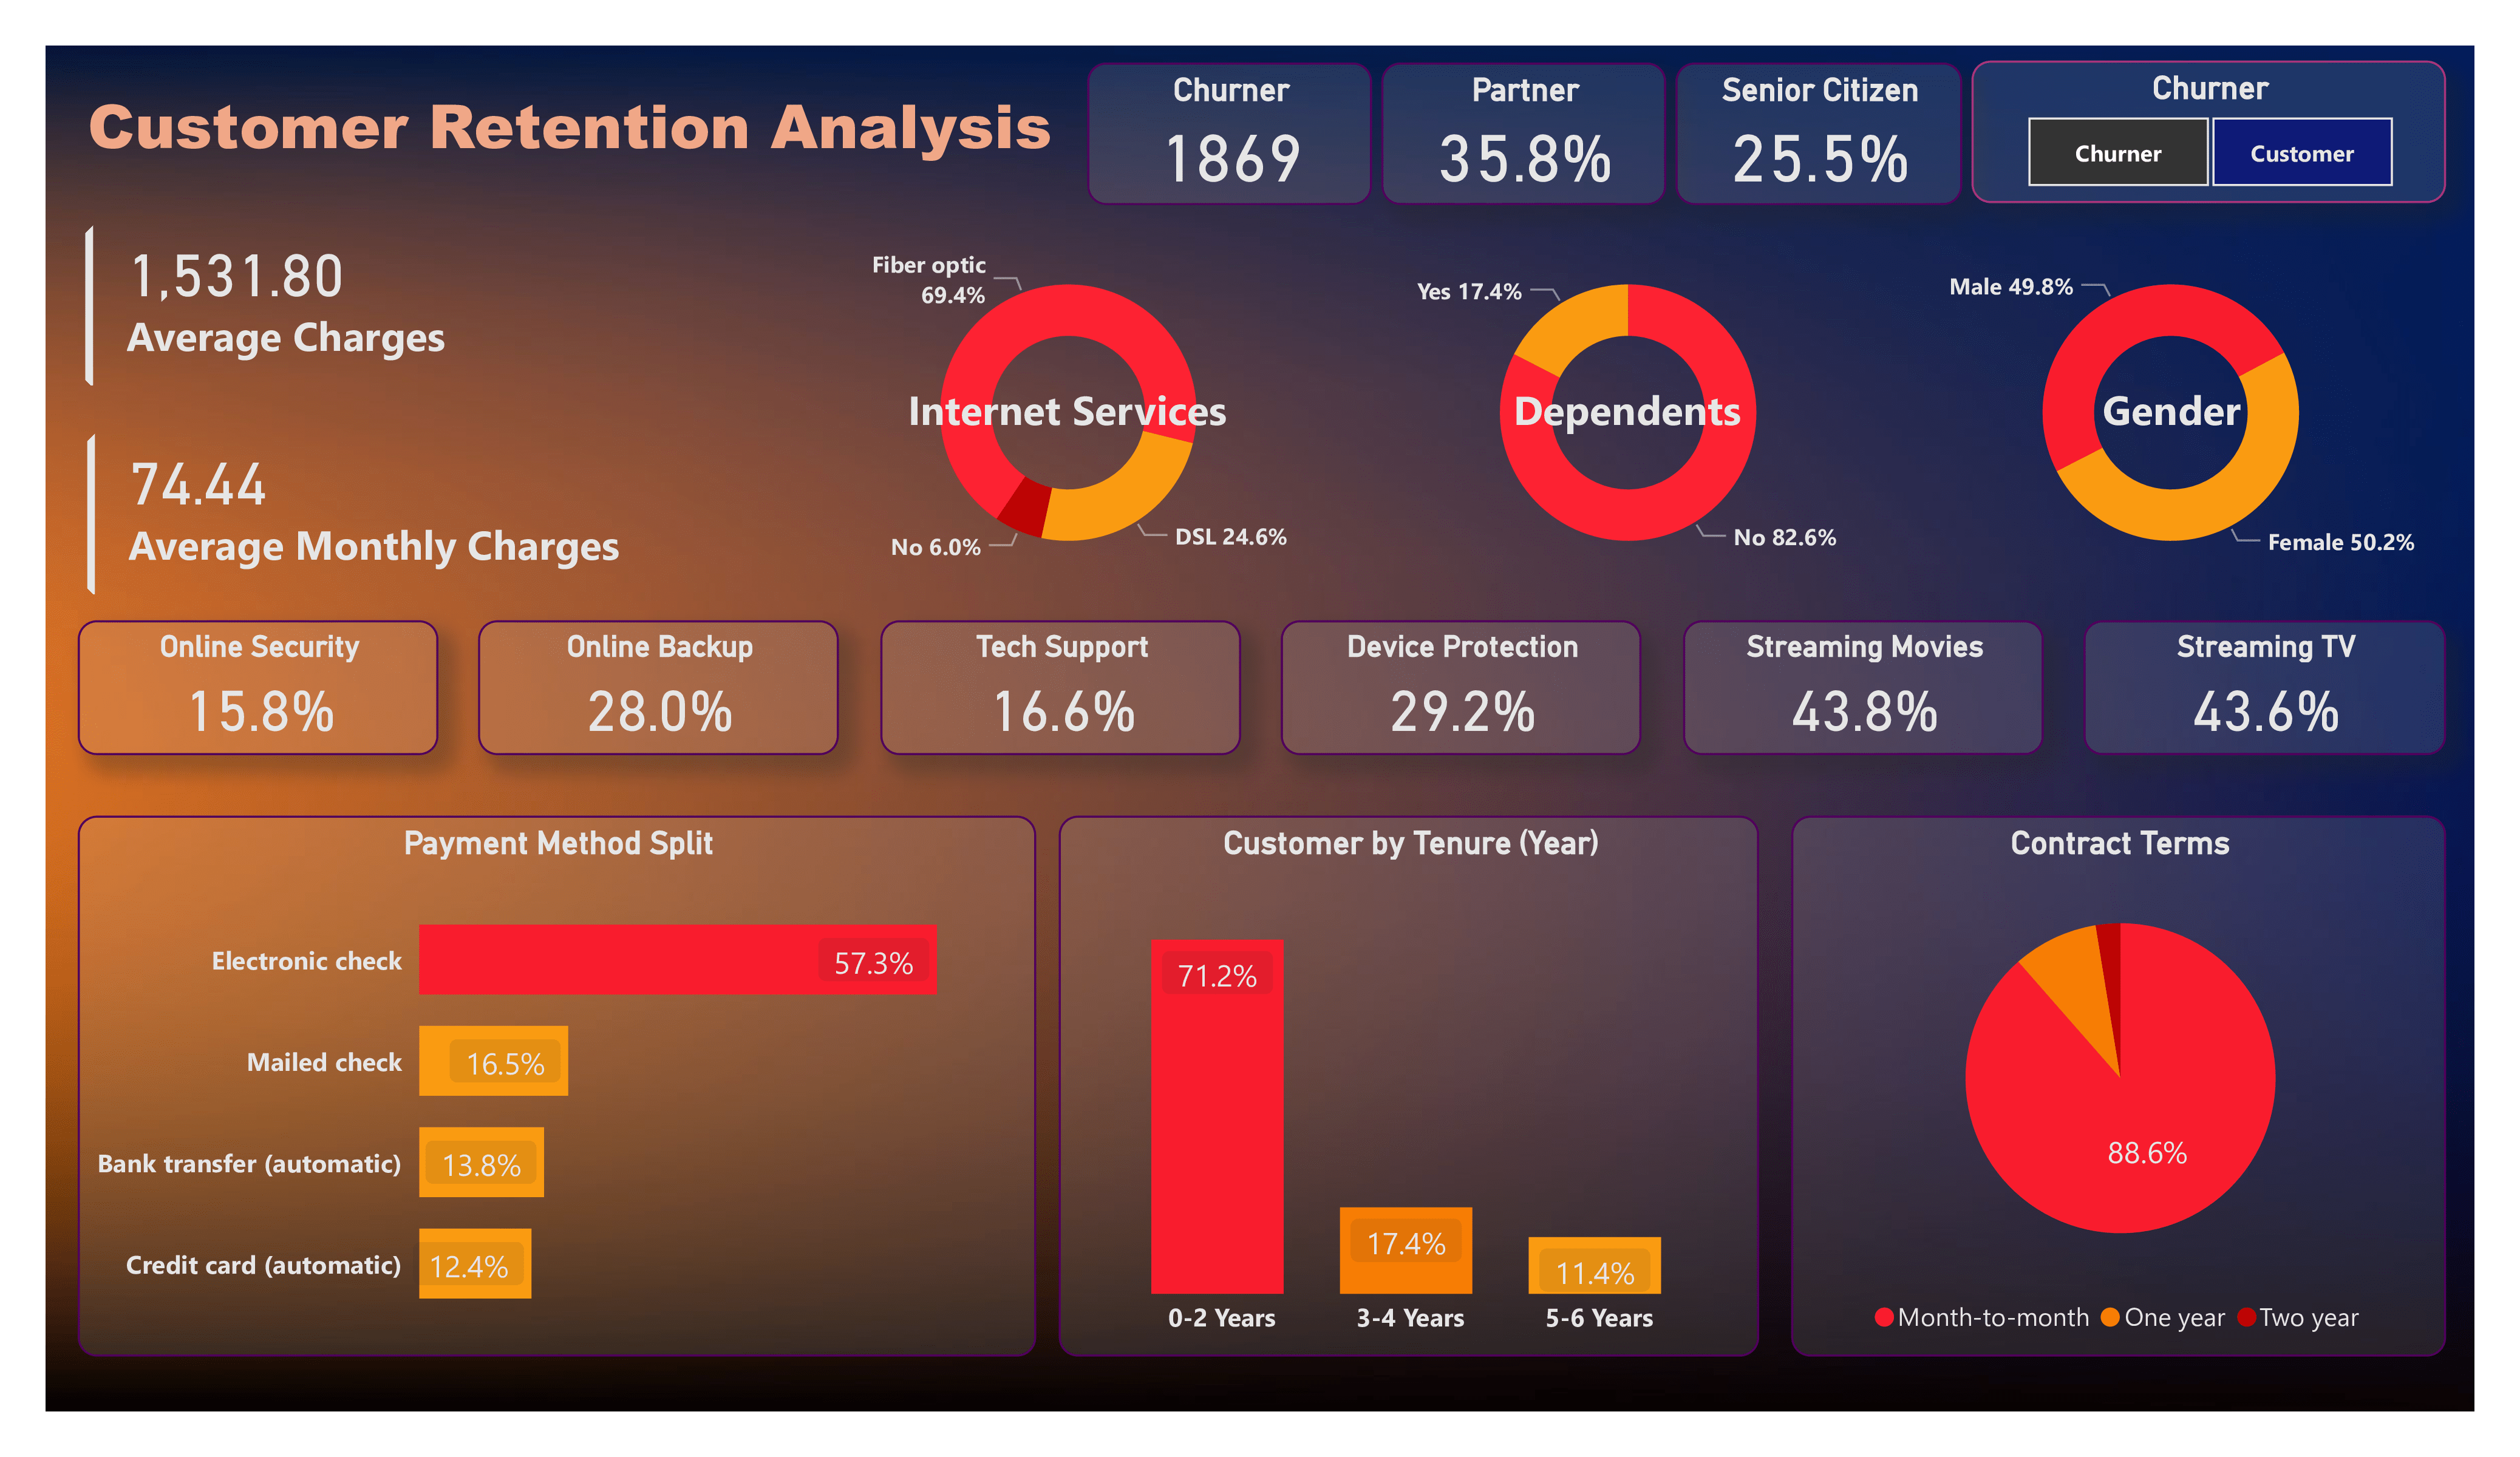

The dashboard page shown, as its layout file describes it:
{"tool":"powerbi","page":{"name":"Page 1","canvas":[1280,720],"ordinal":0},"visuals":[{"type":"card","title":"Churner","fields":{"Values":["Sum(01 Churn-Dataset.Churner)"]},"box":[549,8.9,150.1,75.1],"z":0},{"type":"card","title":"Partner","fields":{"Values":["01 Churn-Dataset.partner percentage"]},"box":[704.2,8.9,150.1,75.1],"z":1000},{"type":"card","title":"Senior Citizen","fields":{"Values":["01 Churn-Dataset.senior citizen %"]},"box":[859.5,8.9,150.1,75.1],"z":2000},{"type":"slicer","title":"Churner","fields":{"Values":["01 Churn-Dataset.Churn"]},"box":[1014.7,8.3,250.2,75.1],"z":3000},{"type":"textbox","box":[16.7,13.9,529.6,61.2],"z":4000},{"type":"cardVisual","fields":{"Data":["Avg(01 Churn-Dataset.TotalCharges)"]},"box":[16,75.1,244.6,109.8],"z":5000},{"type":"cardVisual","fields":{"Data":["Avg(01 Churn-Dataset.MonthlyCharges)"]},"box":[16.7,184.9,314.1,109.8],"z":6000},{"type":"card","title":"Streaming TV","fields":{"Values":["01 Churn-Dataset.Streaming TV %"]},"box":[1074.4,303,190.4,70.9],"z":7000},{"type":"card","title":"Streaming Movies","fields":{"Values":["01 Churn-Dataset.Streaming Movies %"]},"box":[862.9,303,190,70.9],"z":8000},{"type":"card","title":"Device Protection","fields":{"Values":["01 Churn-Dataset.Device Protection %"]},"box":[651.3,303,190,70.9],"z":9000},{"type":"card","title":"Tech Support","fields":{"Values":["01 Churn-Dataset.Tech Support %"]},"box":[439.8,303,190,70.9],"z":10000},{"type":"card","title":"Online Backup","fields":{"Values":["01 Churn-Dataset.Online Backup %"]},"box":[228.2,303,190,70.9],"z":11000},{"type":"card","title":"Online Security","fields":{"Values":["01 Churn-Dataset.Online security %"]},"box":[16.7,303,190,70.9],"z":12000},{"type":"donutChart","fields":{"Category":["01 Churn-Dataset.InternetService"],"Y":["CountNonNull(01 Churn-Dataset.InternetService)"]},"box":[403.9,95.9,270,195],"z":13000},{"type":"textbox","box":[444.2,172.4,189,41.7],"z":14000},{"type":"donutChart","fields":{"Category":["01 Churn-Dataset.Dependents"],"Y":["CountNonNull(01 Churn-Dataset.Dependents)"]},"box":[699.2,95.9,269.7,194.6],"z":15000},{"type":"textbox","box":[739.5,172.4,189,41.7],"z":16000},{"type":"donutChart","fields":{"Category":["01 Churn-Dataset.gender"],"Y":["CountNonNull(01 Churn-Dataset.gender)"]},"box":[985.5,95.9,269.7,194.6],"z":17000},{"type":"textbox","box":[1025.8,172.4,189,41.7],"z":18000},{"type":"clusteredBarChart","title":"Payment Method Split","fields":{"Category":["01 Churn-Dataset.PaymentMethod"],"Y":["CountNonNull(01 Churn-Dataset.Churn)"]},"box":[16.7,405.9,505,284.9],"z":19000},{"type":"clusteredColumnChart","title":"Customer by Tenure (Year)","fields":{"Category":["01 Churn-Dataset.Year Group"],"Y":["Divide(CountNonNull(01 Churn-Dataset.Churn), ScopedEval(CountNonNull(01 Churn-Dataset.Churn), []))"]},"box":[533.6,405.9,369.7,284.9],"z":20000},{"type":"pieChart","title":"Contract Terms","fields":{"Category":["01 Churn-Dataset.Contract"],"Y":["CountNonNull(01 Churn-Dataset.Contract)"]},"box":[920.2,405.9,344.7,284.9],"z":21000}]}

Visuals, with their boxes in screenshot pixels (x1, y1, x2, y2):
"Churner" card: <bbox>1088, 63, 1372, 205</bbox>
"Partner" card: <bbox>1382, 63, 1667, 205</bbox>
"Senior Citizen" card: <bbox>1677, 63, 1961, 205</bbox>
"Churner" slicer: <bbox>1971, 61, 2446, 204</bbox>
textbox: <bbox>77, 72, 1082, 188</bbox>
cardVisual - Avg(01 Churn-Dataset.TotalCharges): <bbox>76, 188, 540, 396</bbox>
cardVisual - Avg(01 Churn-Dataset.MonthlyCharges): <bbox>77, 396, 673, 605</bbox>
"Streaming TV" card: <bbox>2085, 620, 2446, 755</bbox>
"Streaming Movies" card: <bbox>1683, 620, 2043, 755</bbox>
"Device Protection" card: <bbox>1281, 620, 1642, 755</bbox>
"Tech Support" card: <bbox>880, 620, 1241, 755</bbox>
"Online Backup" card: <bbox>478, 620, 839, 755</bbox>
"Online Security" card: <bbox>77, 620, 438, 755</bbox>
donutChart - 01 Churn-Dataset.InternetService x CountNonNull(01 Churn-Dataset.InternetService): <bbox>812, 228, 1324, 597</bbox>
textbox: <bbox>888, 373, 1247, 452</bbox>
donutChart - 01 Churn-Dataset.Dependents x CountNonNull(01 Churn-Dataset.Dependents): <bbox>1372, 228, 1884, 597</bbox>
textbox: <bbox>1449, 373, 1808, 452</bbox>
donutChart - 01 Churn-Dataset.gender x CountNonNull(01 Churn-Dataset.gender): <bbox>1916, 228, 2428, 597</bbox>
textbox: <bbox>1992, 373, 2351, 452</bbox>
"Payment Method Split" clusteredBarChart: <bbox>77, 815, 1035, 1356</bbox>
"Customer by Tenure (Year)" clusteredColumnChart: <bbox>1058, 815, 1760, 1356</bbox>
"Contract Terms" pieChart: <bbox>1792, 815, 2446, 1356</bbox>
